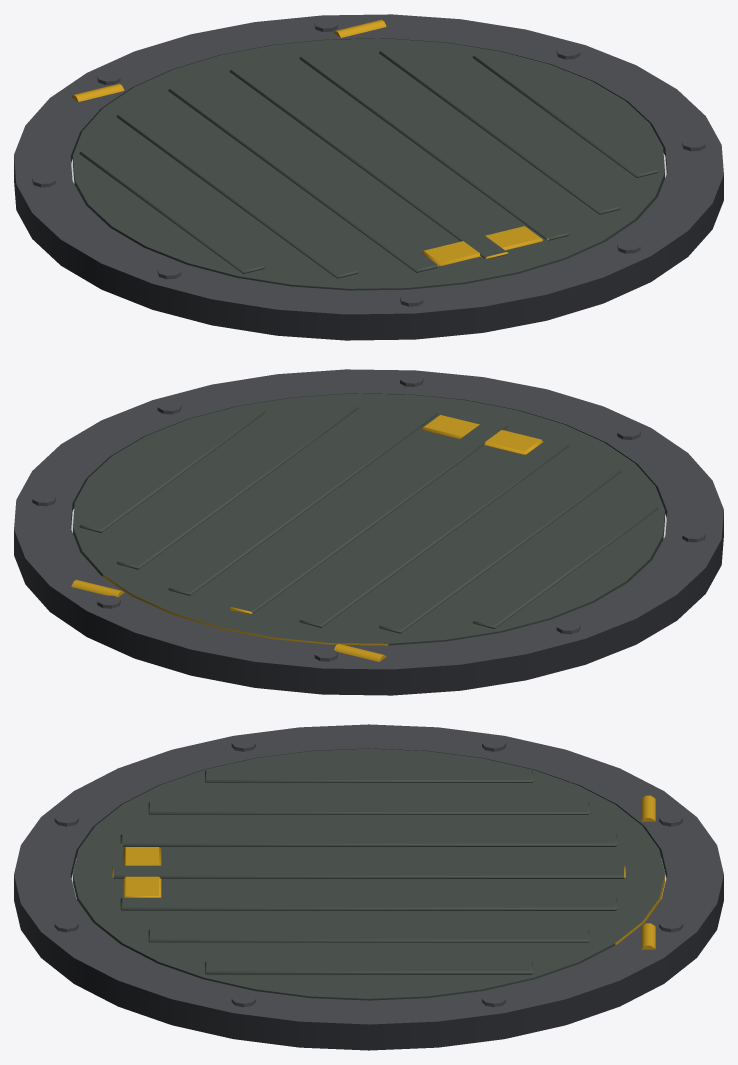
Rendered from L17D_Hatch.fbx.
The picture shows the model from 3 angles, top to bottom: view 1: azimuth 30°, elevation 25°; view 2: azimuth 150°, elevation 25°; view 3: azimuth 270°, elevation 25°; orthographic projection.
Parts seen in each view (by area): view 1: Lid, Frame.001; view 2: Lid, Frame.001; view 3: Lid, Frame.001.
Part boxes in pixels (bbox=[...]): Lid: bbox=[71, 19, 664, 290]; Frame.001: bbox=[14, 14, 723, 340]; Lid: bbox=[71, 393, 664, 661]; Frame.001: bbox=[14, 369, 723, 695]; Lid: bbox=[73, 748, 664, 1000]; Frame.001: bbox=[14, 724, 723, 1050].
Size of the model in its own units: 0.94 by 0.0435 by 0.94.
